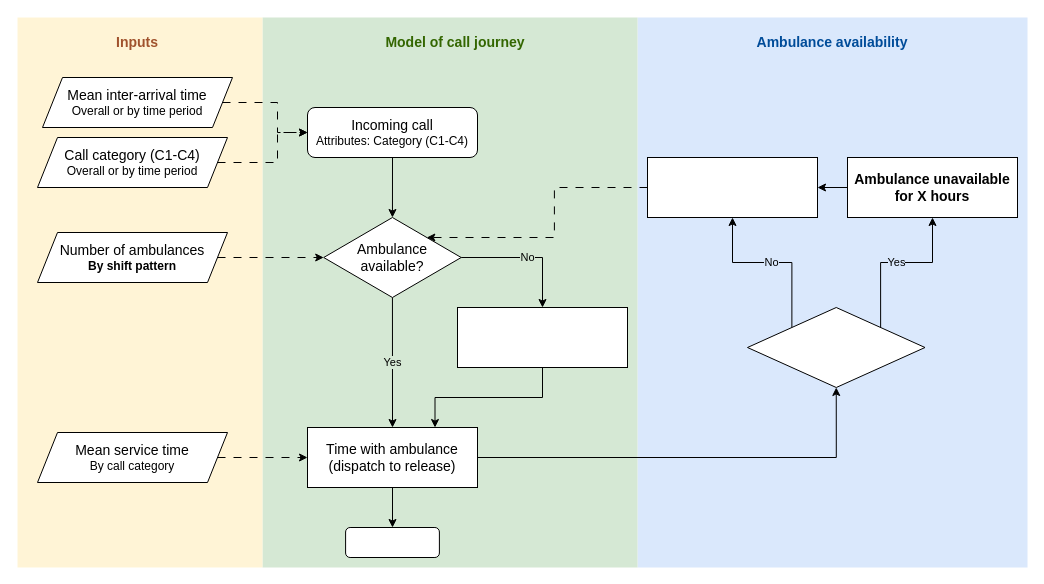
Some shapes in this 1044 by 584 pixel diagram are drawn without their labels. Here are the shapes that lost their labels. From the top down, the centre of each, then its label:
the point at 732,187: Ambulance available for new job
the point at 542,337: Queue for ambulance FIFO or priority queue and/or reneging & balking
the point at 835,347: Is ambulance shift over?
the point at 392,542: Patient end
